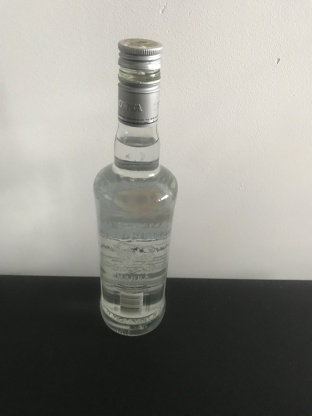nakretka: (116, 36, 164, 127)
